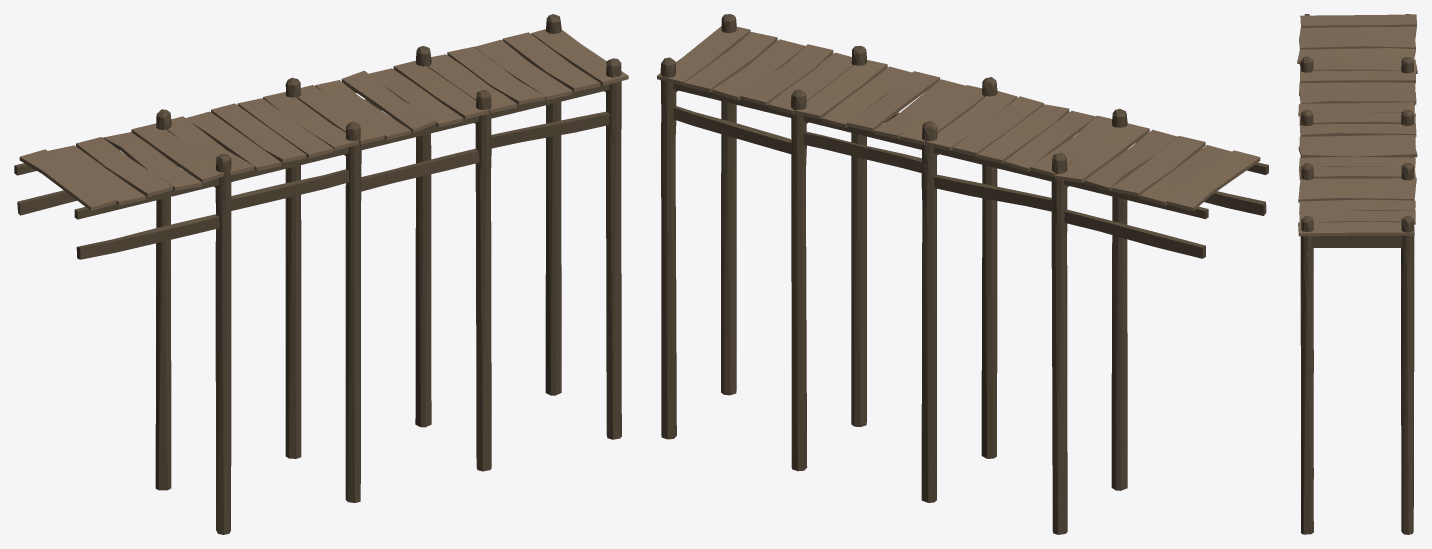
Rendered from port_wooden_bridge_a.FBX.
3 views of the same model, side by side, from view 1: azimuth 30°, elevation 25°; view 2: azimuth 150°, elevation 25°; view 3: azimuth 270°, elevation 25° (orthographic). The views are drawn at different scales.
Visible parts, largest first — view 1: port_wooden_bridge_a; view 2: port_wooden_bridge_a; view 3: port_wooden_bridge_a.
Part boxes in pixels (<box>): port_wooden_bridge_a: <box>14,14,628,534</box>; port_wooden_bridge_a: <box>657,14,1268,534</box>; port_wooden_bridge_a: <box>1297,14,1417,534</box>.
Size of the model in its own units: 15.78 by 10.36 by 3.59.
